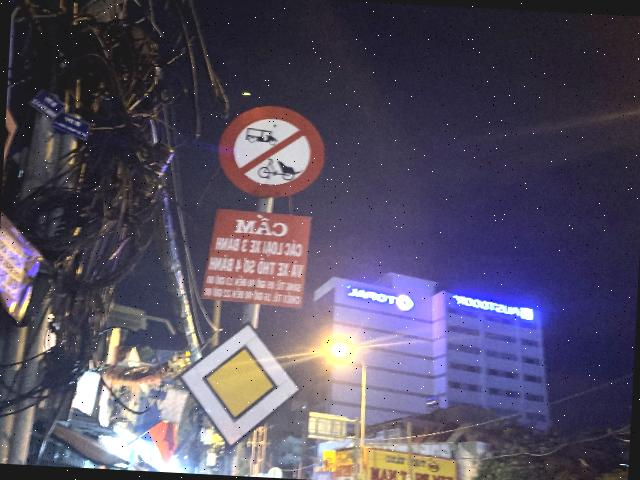bat-dau-duong-uu-tien: (174, 316, 306, 452)
cam-xe-3-banh-xe-tho-so-4-banh: (216, 101, 328, 201)
